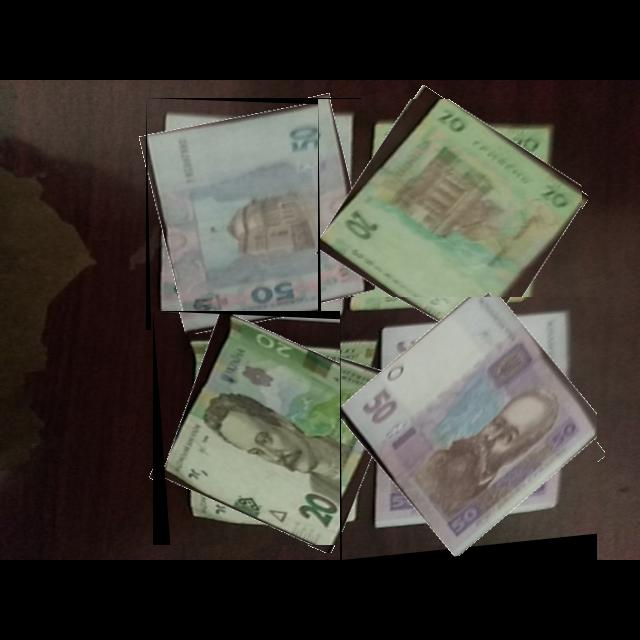20uah: (320, 99, 583, 344), (162, 314, 401, 546)
50uah: (341, 297, 598, 560), (147, 104, 362, 331)
